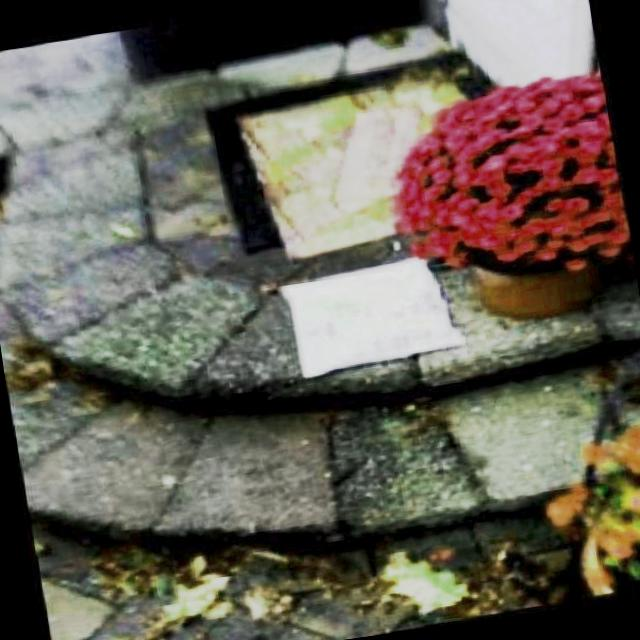Box: (152, 272, 260, 366), (279, 235, 383, 322), (299, 299, 420, 373), (568, 265, 640, 379), (572, 206, 638, 290), (556, 145, 628, 219)
